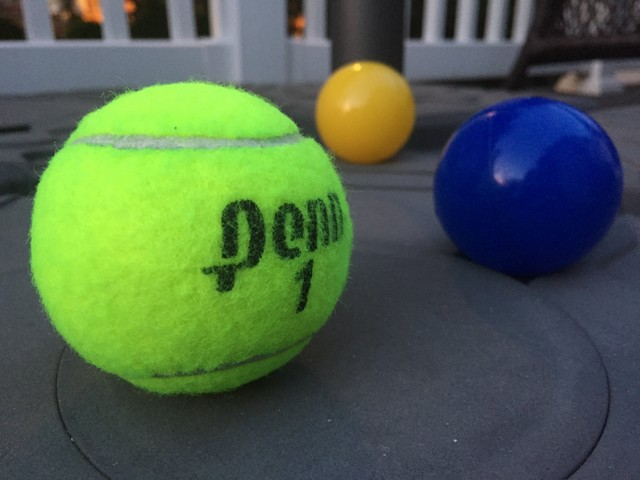Ball: (317, 59, 415, 164)
